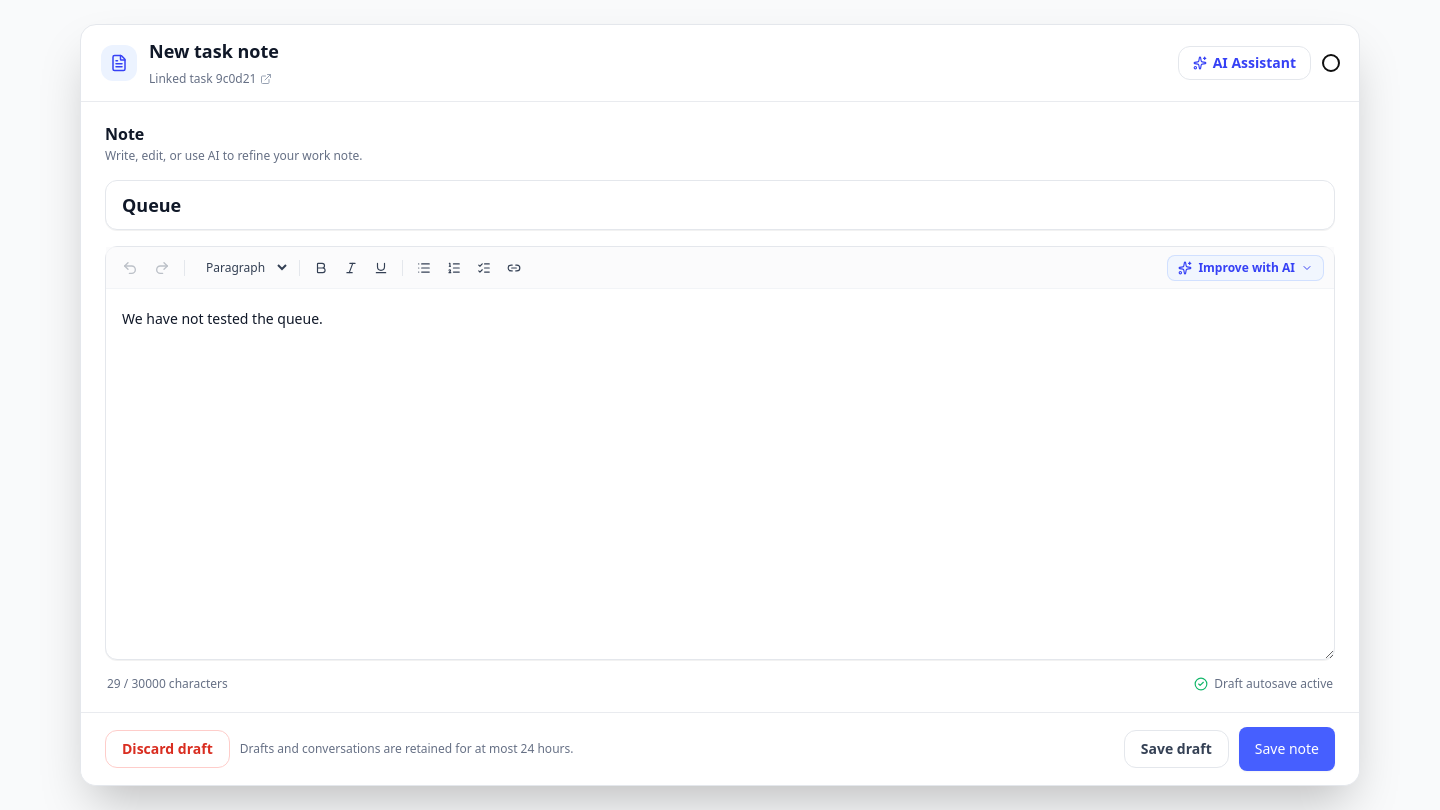
renders English translations cleanly when mounted with en.json
The image size is (1440, 810).
Expected: the text box named "Content" is shown, [106, 289, 1334, 659]
Expected: the button "Improve with AI" is shown, [1167, 255, 1324, 281]
Step 1. Click the button "AI Assistant" → (1244, 63), box [1178, 46, 1311, 80]
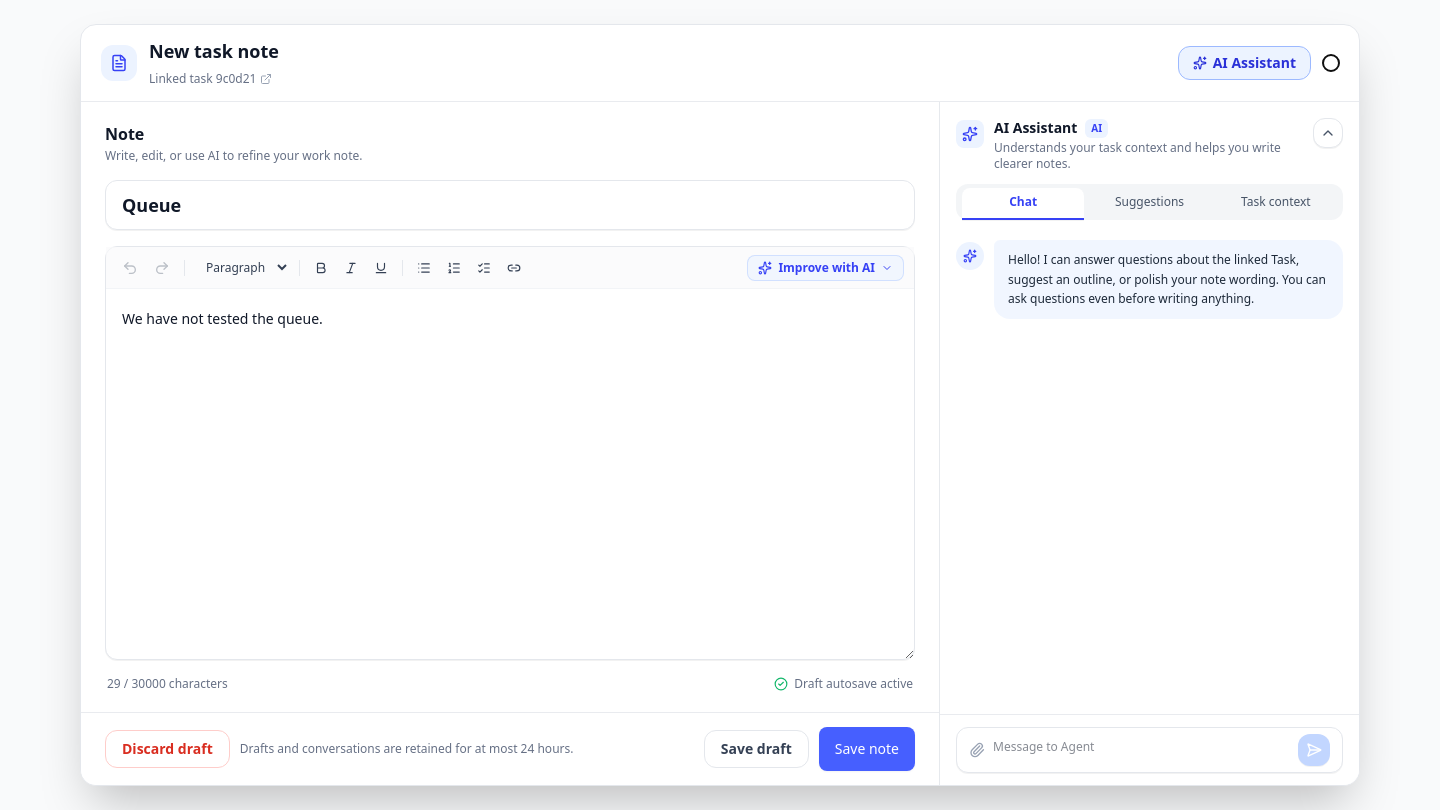
Expected: the element "AI Assistant" is shown, [939, 102, 1359, 785]
